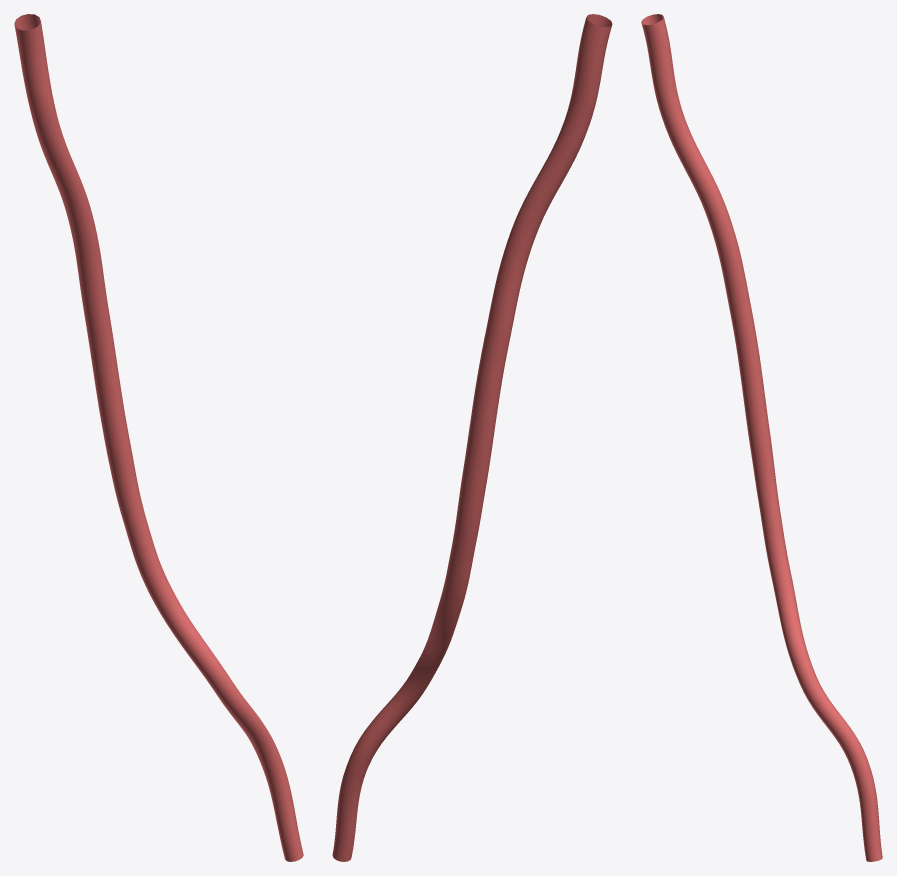
The model's file is Brachial_artery.l_BezierCurve.160.glb.
3 renders of one model, left to right at view 1: azimuth 30°, elevation 25°; view 2: azimuth 150°, elevation 25°; view 3: azimuth 330°, elevation 25°, orthographic. The views are drawn at different scales.
Visible parts, largest first — view 1: Brachial_artery.l_BezierCurve.160; view 2: Brachial_artery.l_BezierCurve.160; view 3: Brachial_artery.l_BezierCurve.160.
Part boxes in pixels (<box>): Brachial_artery.l_BezierCurve.160: <box>14,14,303,861</box>; Brachial_artery.l_BezierCurve.160: <box>332,14,612,861</box>; Brachial_artery.l_BezierCurve.160: <box>641,14,882,861</box>.
Size of the model in its own units: 0.0841 by 0.2581 by 0.0196.
